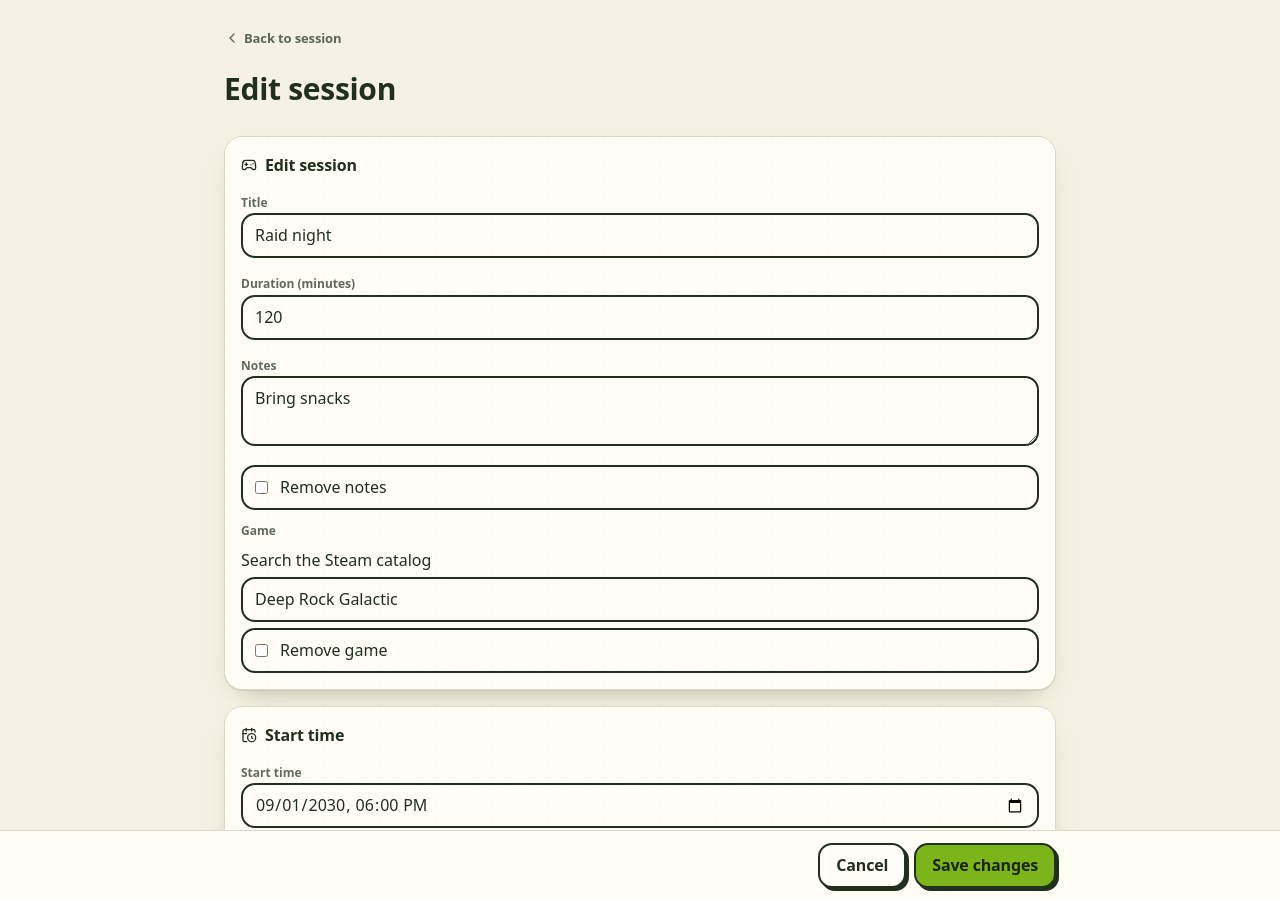
it: SessionEditPage (lovable) › does not anchor the validation summary at the hidden app-id field when Clear game is ticked_F4_H2
Click the checkbox labelled "Remove game" at coordinates (262, 650), box [255,644,268,657]
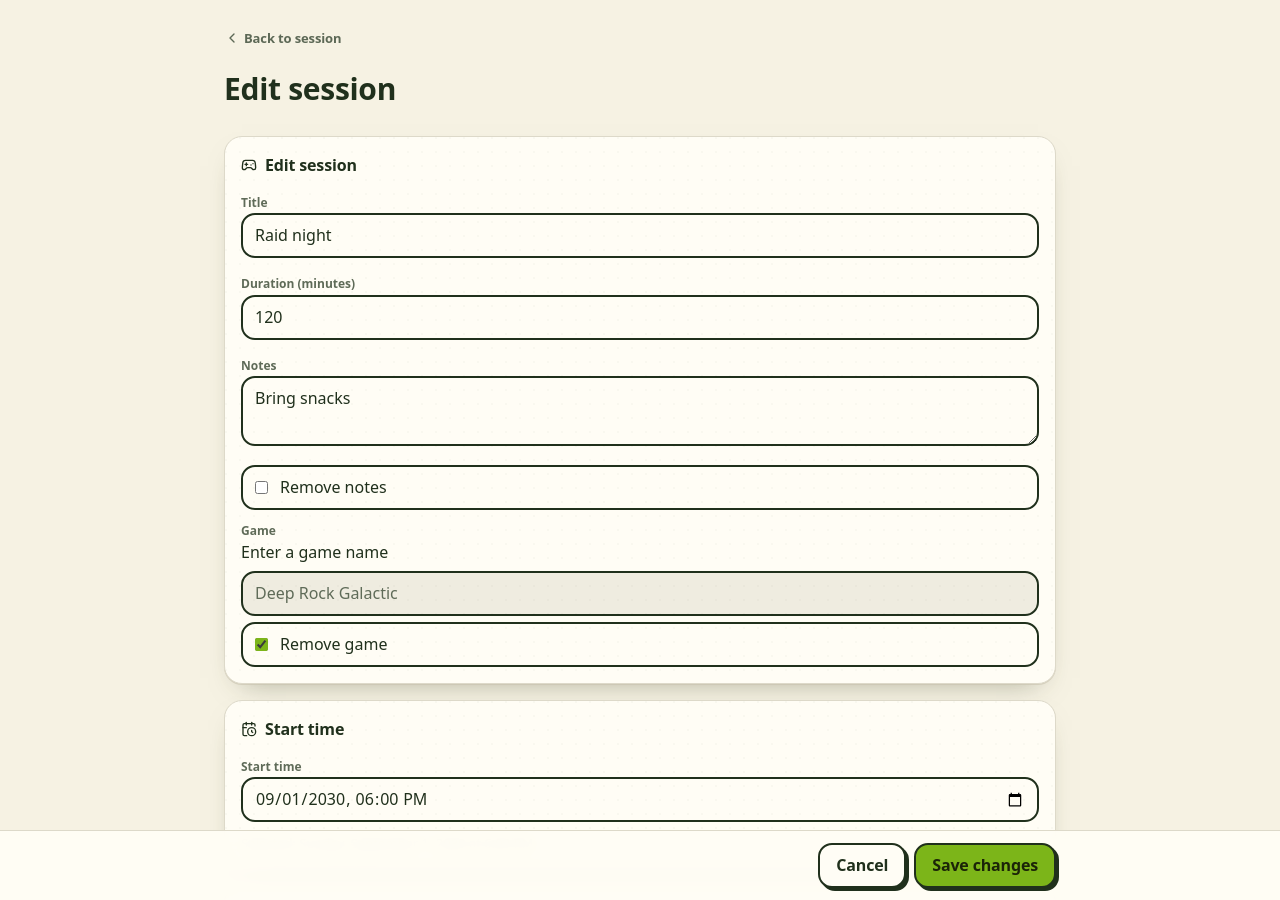
Clear the field labelled "Title" at coordinates (640, 236), box [241,213,1039,258]
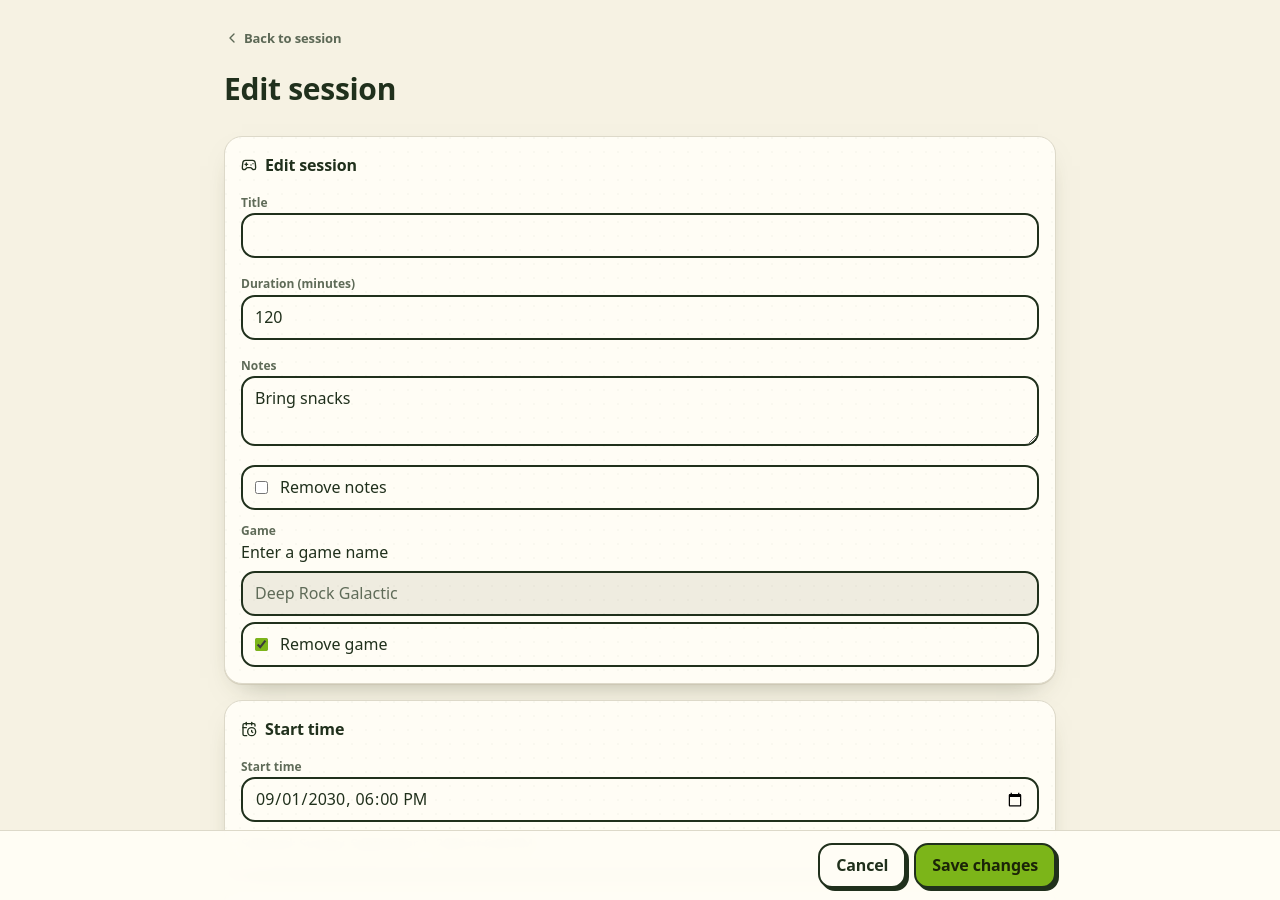
Click the button "Save changes" at coordinates (985, 866), box [914,843,1056,888]
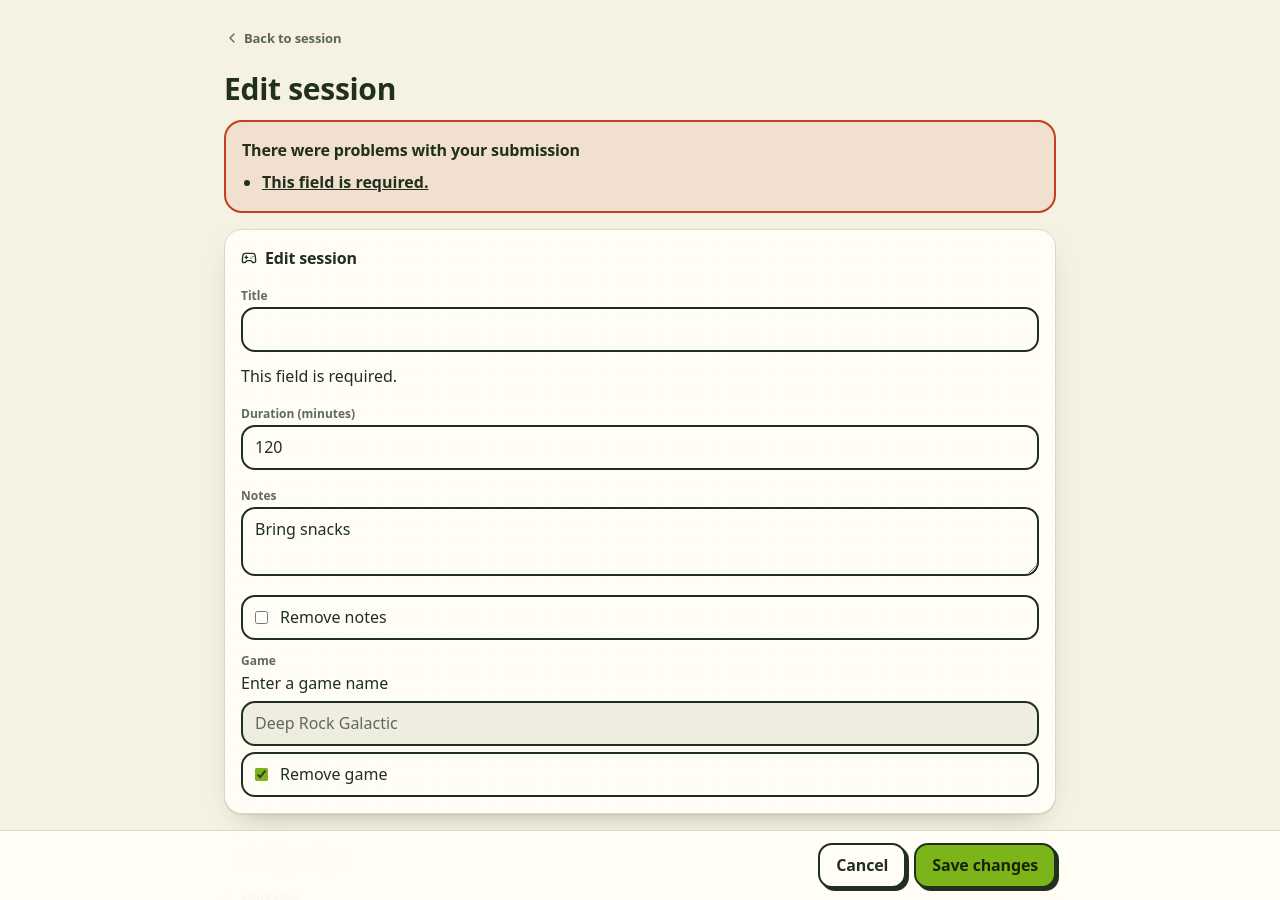
Check: the link "This field is required." is shown, box [262,171,428,193]
